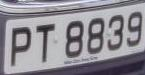3: (106, 12, 127, 54)
8: (63, 17, 87, 63), (85, 14, 107, 58)
9: (125, 7, 145, 52)
P: (8, 19, 35, 72)
T: (33, 20, 59, 69)
